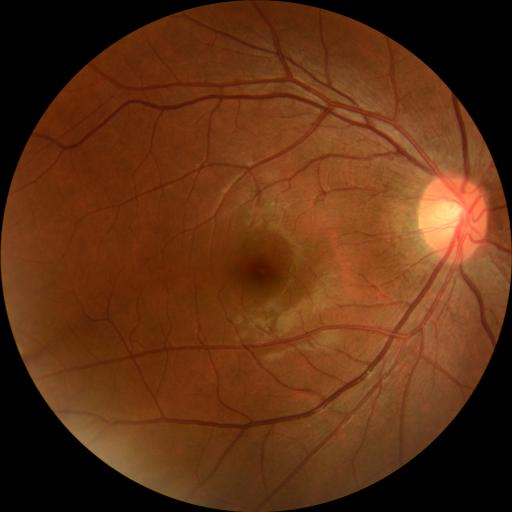Optic Cup: (431, 200, 463, 230)
Optic Disc: (417, 174, 488, 264)
